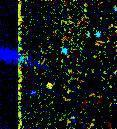star: (33, 68, 63, 98)
